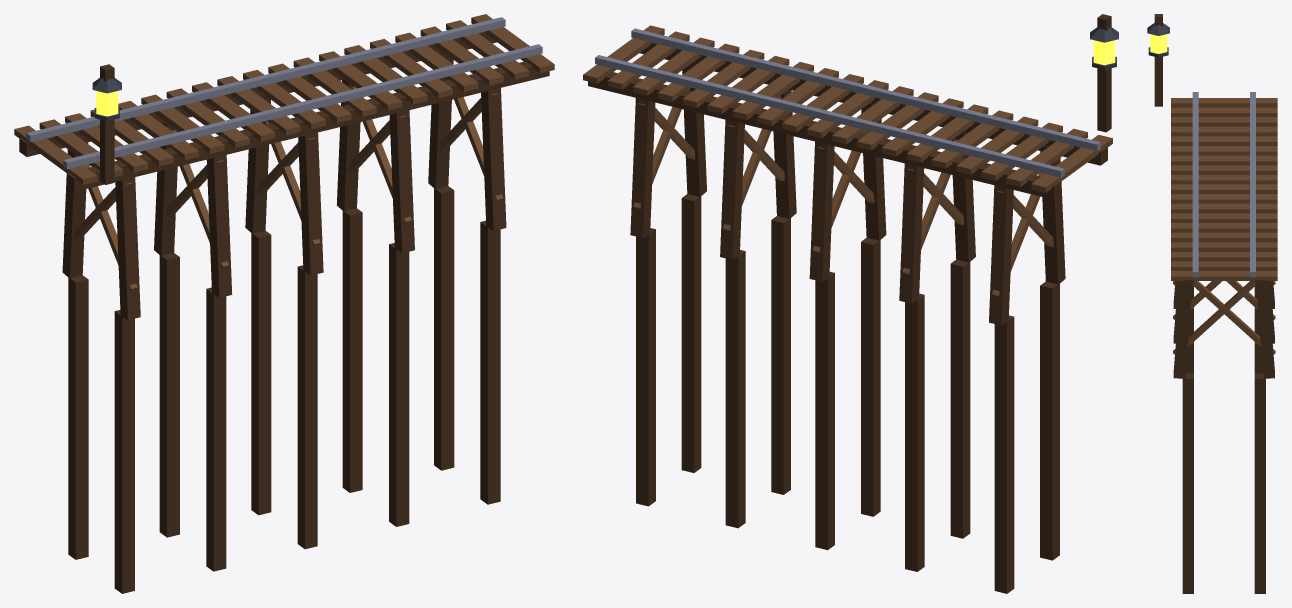
File: Mine_Bridge_Trestle.fbx
3 views of the same model, side by side, from view 1: azimuth 30°, elevation 25°; view 2: azimuth 150°, elevation 25°; view 3: azimuth 270°, elevation 25° (orthographic). The views are drawn at different scales.
Parts seen in each view (by area): view 1: Mine_Bridge_Trestle_Body; view 2: Mine_Bridge_Trestle_Body; view 3: Mine_Bridge_Trestle_Body.
Boxes of the visible parts, box(x1,y1,x2,y2) form: Mine_Bridge_Trestle_Body: box(14, 14, 554, 593); Mine_Bridge_Trestle_Body: box(583, 14, 1118, 593); Mine_Bridge_Trestle_Body: box(1147, 14, 1277, 593).
Size of the model in its own units: 5.2 by 5.7 by 1.59.
